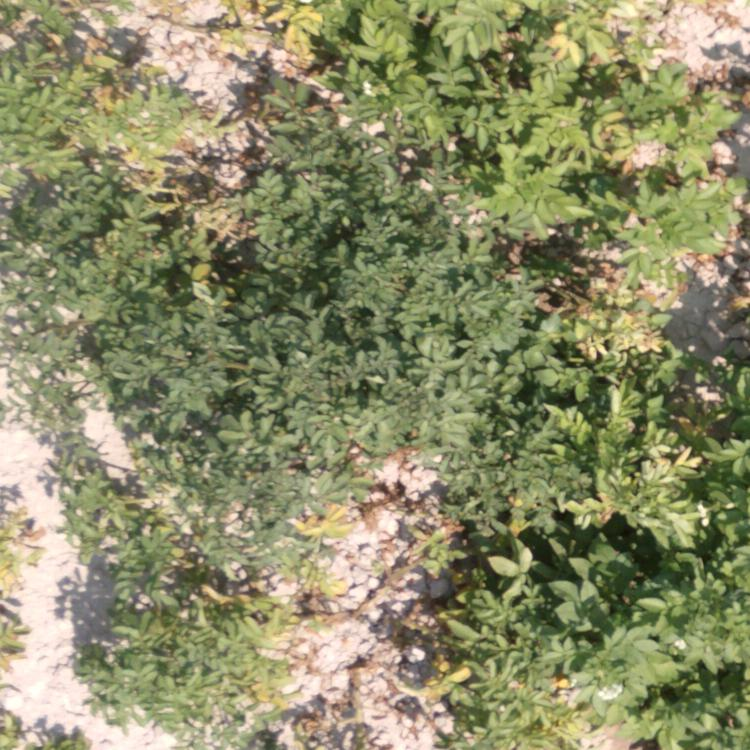healthy: (234, 228, 537, 370), (1, 188, 183, 416), (187, 378, 486, 491), (226, 85, 439, 222), (604, 571, 750, 746), (681, 175, 748, 249), (724, 385, 748, 562)
stressed: (105, 507, 274, 728), (1, 1, 197, 180), (236, 1, 666, 69), (420, 579, 587, 750), (515, 392, 699, 545), (481, 72, 712, 178), (551, 181, 680, 366), (290, 497, 363, 607), (1, 487, 42, 674), (1, 704, 97, 748)
